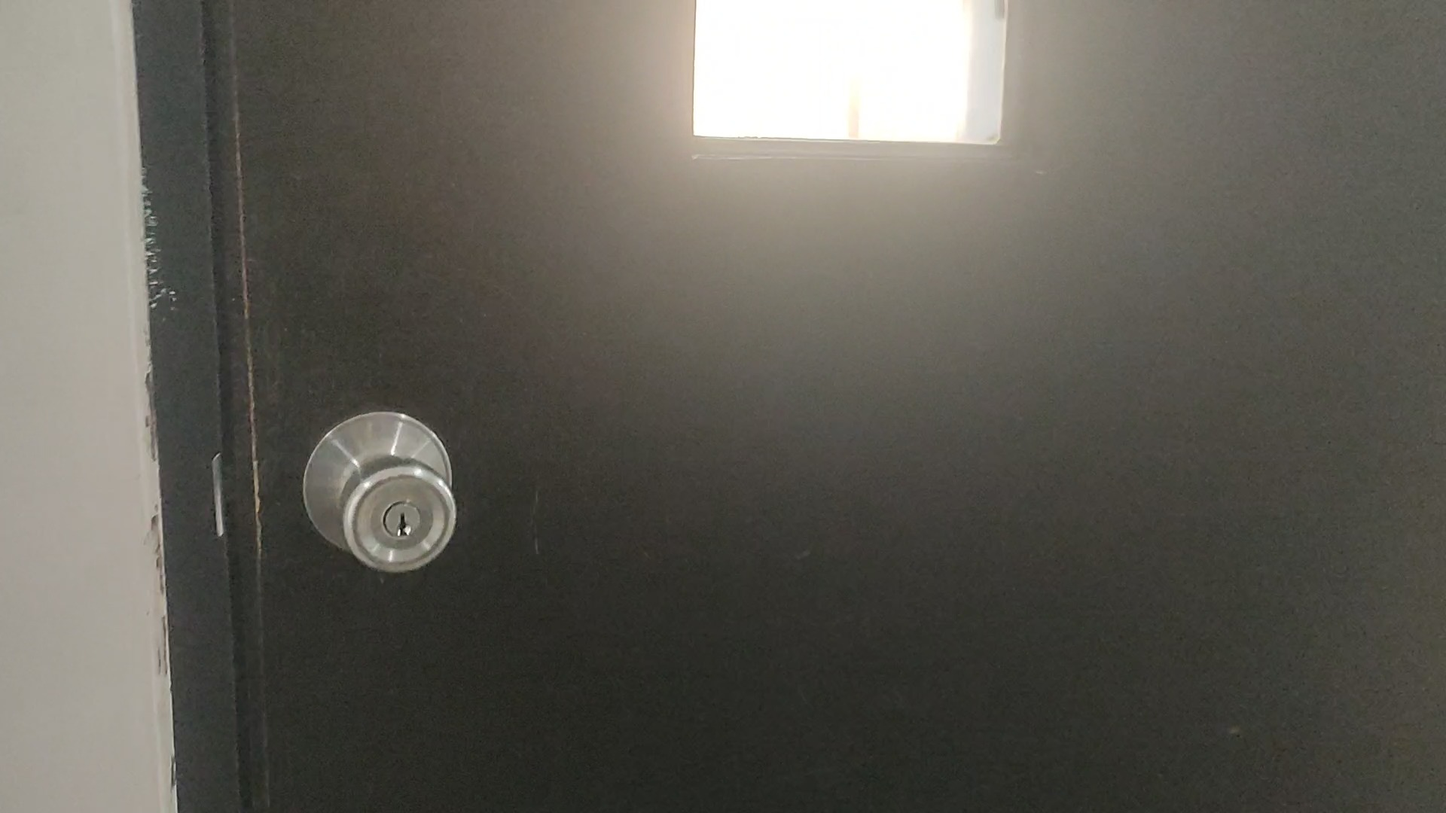door: (127, 0, 1446, 813)
